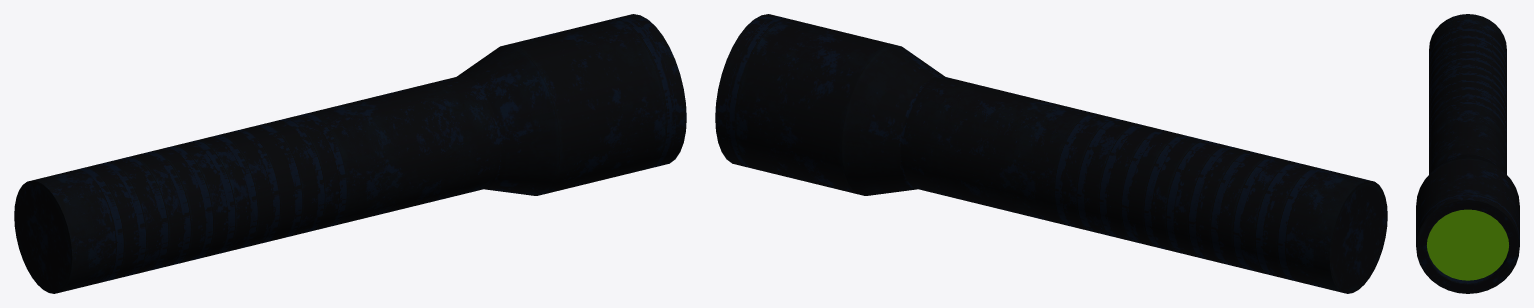
Rendered from flashlight.gltf.
The picture shows the model from 3 angles, left to right: view 1: azimuth 30°, elevation 25°; view 2: azimuth 150°, elevation 25°; view 3: azimuth 270°, elevation 25°; orthographic projection. The views are drawn at different scales.
Parts seen in each view (by area): view 1: Flashlight_low; view 2: Flashlight_low; view 3: Flashlight_low.
Part boxes in pixels (bbox=[...]): Flashlight_low: bbox=[14, 14, 686, 293]; Flashlight_low: bbox=[715, 14, 1387, 293]; Flashlight_low: bbox=[1416, 14, 1519, 293].
Size of the model in its own units: 2 by 0.4434 by 0.4434.
Materials: 1 (1 with a texture image).
